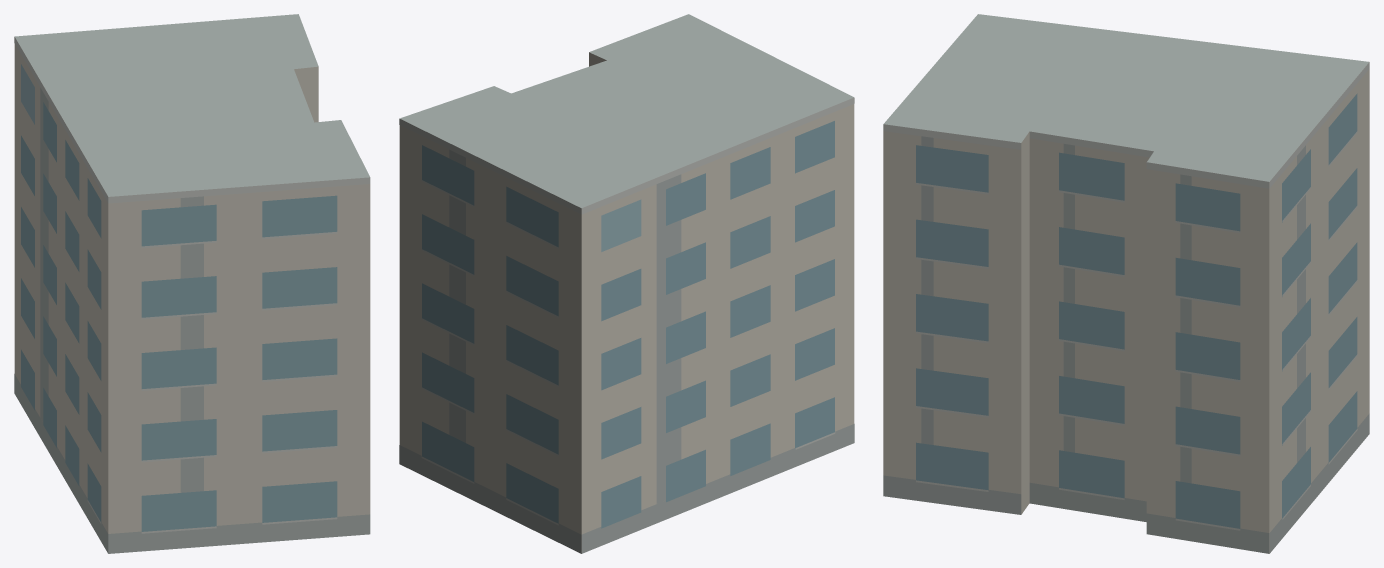
File: survey-upis-32882651.glb
The picture shows the model from 3 angles, left to right: view 1: azimuth 30°, elevation 25°; view 2: azimuth 150°, elevation 25°; view 3: azimuth 270°, elevation 25°; orthographic projection. The views are drawn at different scales.
Parts seen in each view (by area): view 1: survey-upis-32882651.tmp; view 2: survey-upis-32882651.tmp; view 3: survey-upis-32882651.tmp.
Part boxes in pixels (bbox=[...]): survey-upis-32882651.tmp: bbox=[14, 14, 370, 553]; survey-upis-32882651.tmp: bbox=[399, 14, 854, 553]; survey-upis-32882651.tmp: bbox=[883, 14, 1369, 553].
Bounding box in the file's own units: 12.79 × 13.2 × 15.65.
